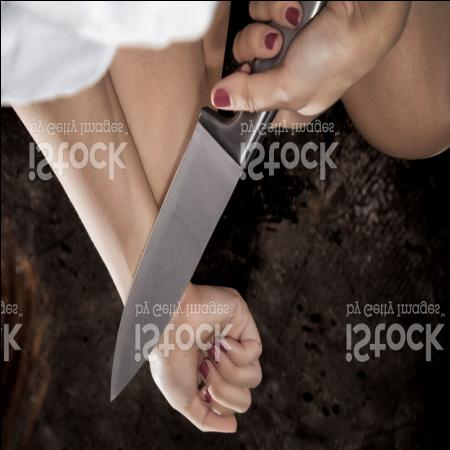long weapon: (98, 1, 309, 415)
